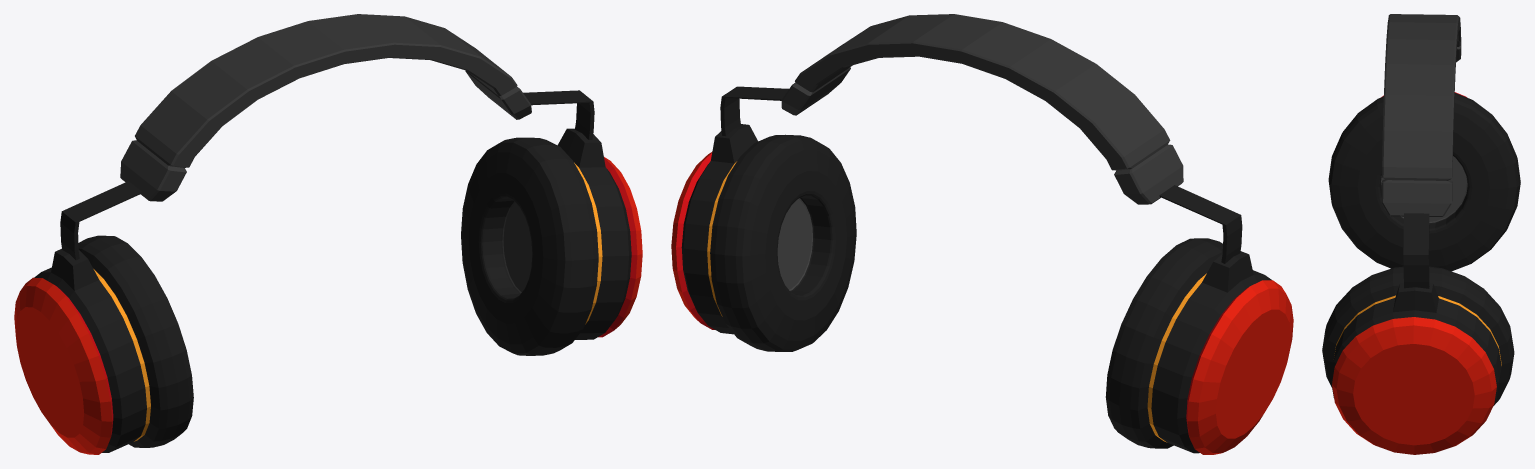
File: headphones_2.glb
3 renders of one model, left to right at view 1: azimuth 30°, elevation 25°; view 2: azimuth 150°, elevation 25°; view 3: azimuth 270°, elevation 25°, orthographic. The views are drawn at different scales.
Parts seen in each view (by area): view 1: Cylinder; view 2: Cylinder; view 3: Cylinder.
Part boxes in pixels (box(x1,y1,x2,y2)): Cylinder: box(14, 14, 642, 454); Cylinder: box(671, 14, 1293, 454); Cylinder: box(1322, 14, 1520, 454).
Size of the model in its own units: 0.8194 by 0.4932 by 0.284.
1 material, 1 textured.
